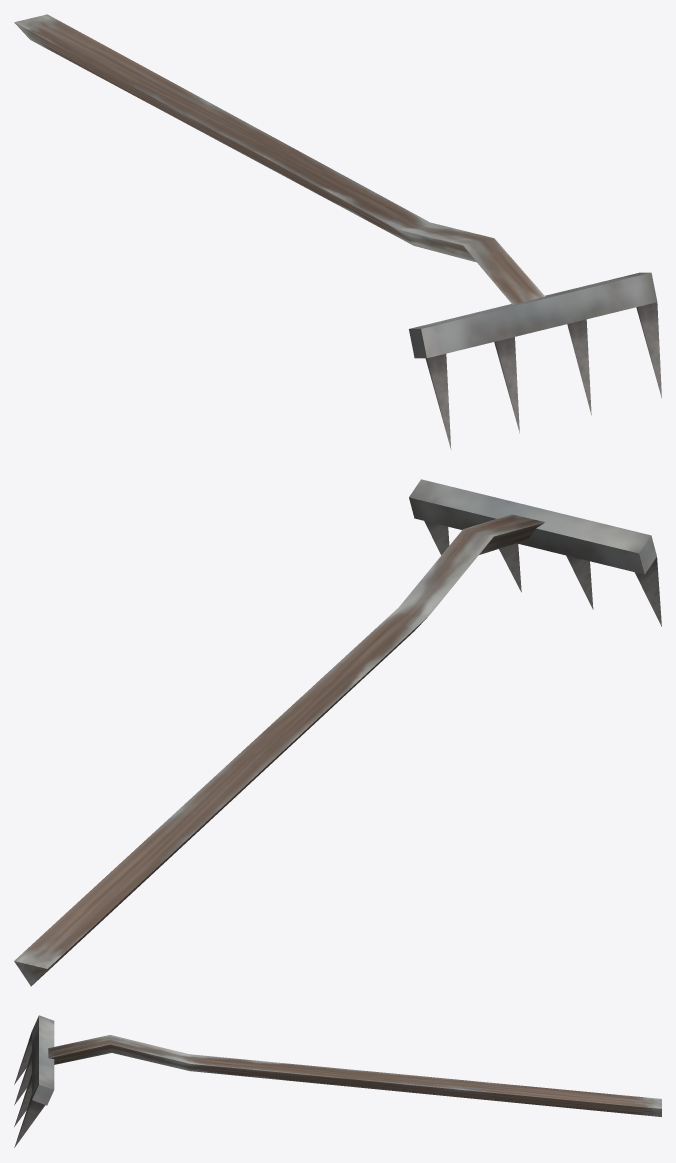
Rendered from snow_a_r06.fbx.
The picture shows the model from 3 angles, top to bottom: view 1: azimuth 30°, elevation 25°; view 2: azimuth 150°, elevation 25°; view 3: azimuth 270°, elevation 25°; orthographic projection. The views are drawn at different scales.
Parts seen in each view (by area): view 1: snow_a_r06; view 2: snow_a_r06; view 3: snow_a_r06.
Boxes of the visible parts, left/top/right/bottom form: snow_a_r06: left=14, top=14, right=661, bottom=449; snow_a_r06: left=14, top=479, right=661, bottom=986; snow_a_r06: left=14, top=1015, right=661, bottom=1147.
Size of the model in its own units: 48.18 by 25.21 by 190.
